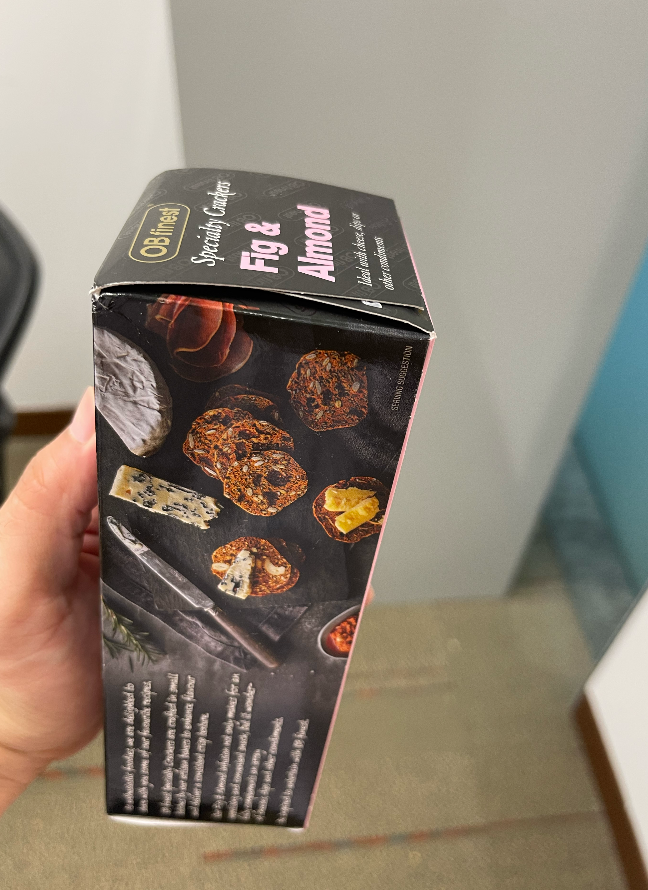crackers_100g-199g: (119, 192, 338, 803)
